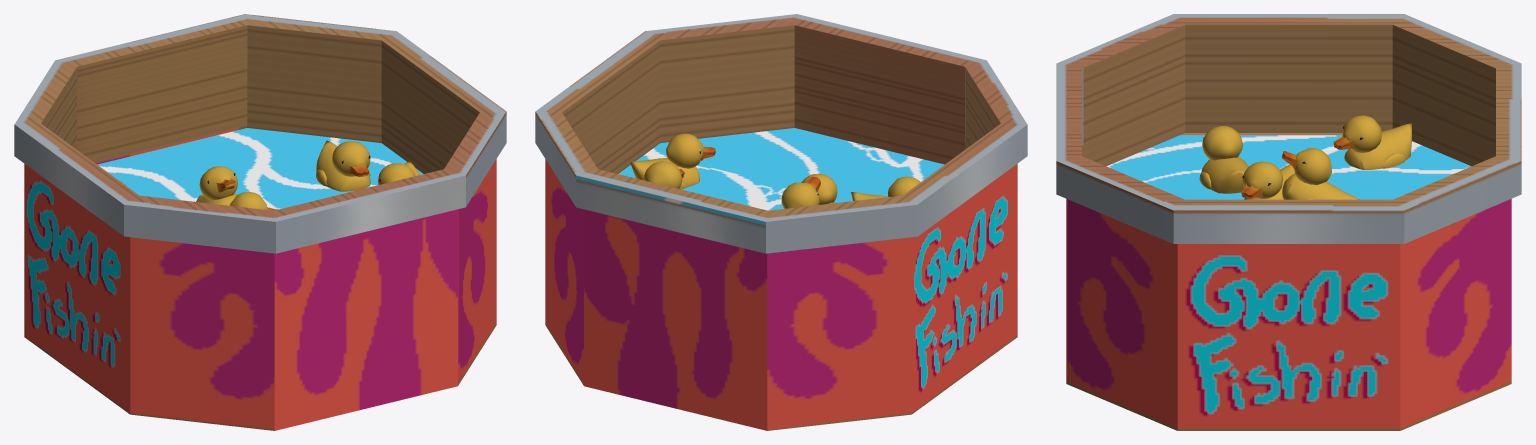
Rendered from rubberduckygame.fbx.
The picture shows the model from 3 angles, left to right: view 1: azimuth 30°, elevation 25°; view 2: azimuth 150°, elevation 25°; view 3: azimuth 270°, elevation 25°; orthographic projection. The views are drawn at different scales.
Visible parts, largest first — view 1: rubber_ducky_game; view 2: rubber_ducky_game; view 3: rubber_ducky_game.
Part boxes in pixels (<box>): rubber_ducky_game: <box>14,14,506,430</box>; rubber_ducky_game: <box>535,14,1027,430</box>; rubber_ducky_game: <box>1056,14,1521,430</box>.
Bounding box in the file's own units: 6.08 × 3.24 × 6.08.
